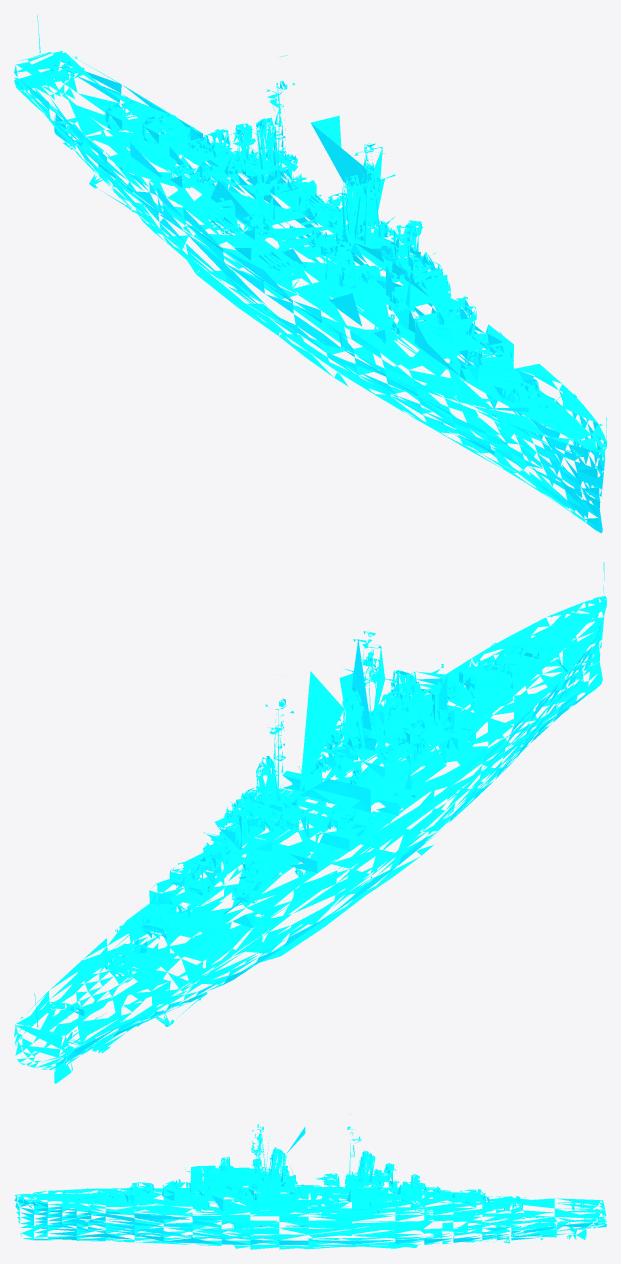
File: Neptune.glb
3 views of the same model, one above another, from view 1: azimuth 30°, elevation 25°; view 2: azimuth 150°, elevation 25°; view 3: azimuth 270°, elevation 25° (orthographic). The views are drawn at different scales.
Bounding box in the file's own units: 1.6 × 3.17 × 13.42.
